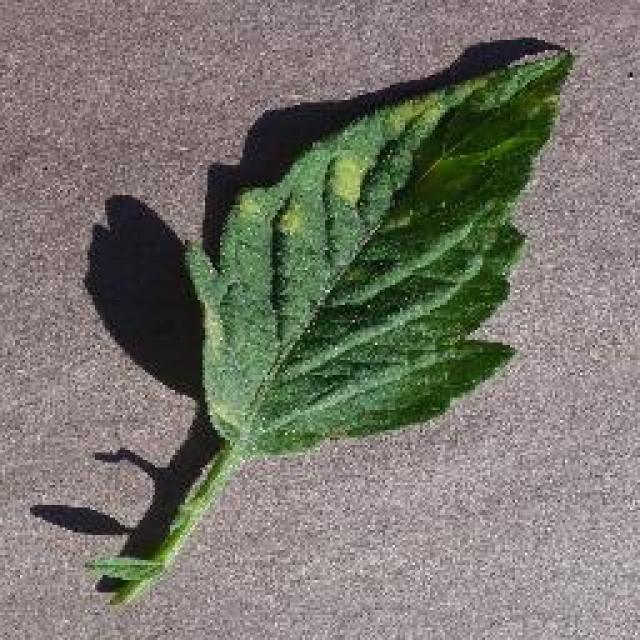Tomato mold leaf: (177, 42, 572, 460)
